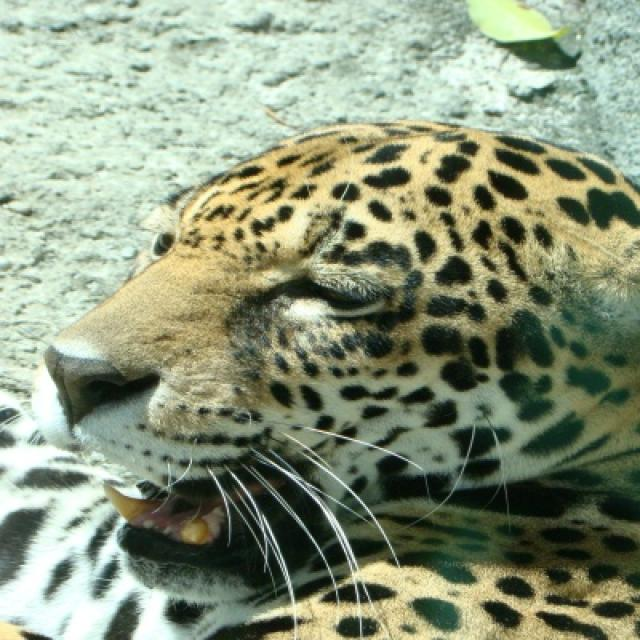Jaguar: (0, 120, 638, 638)
